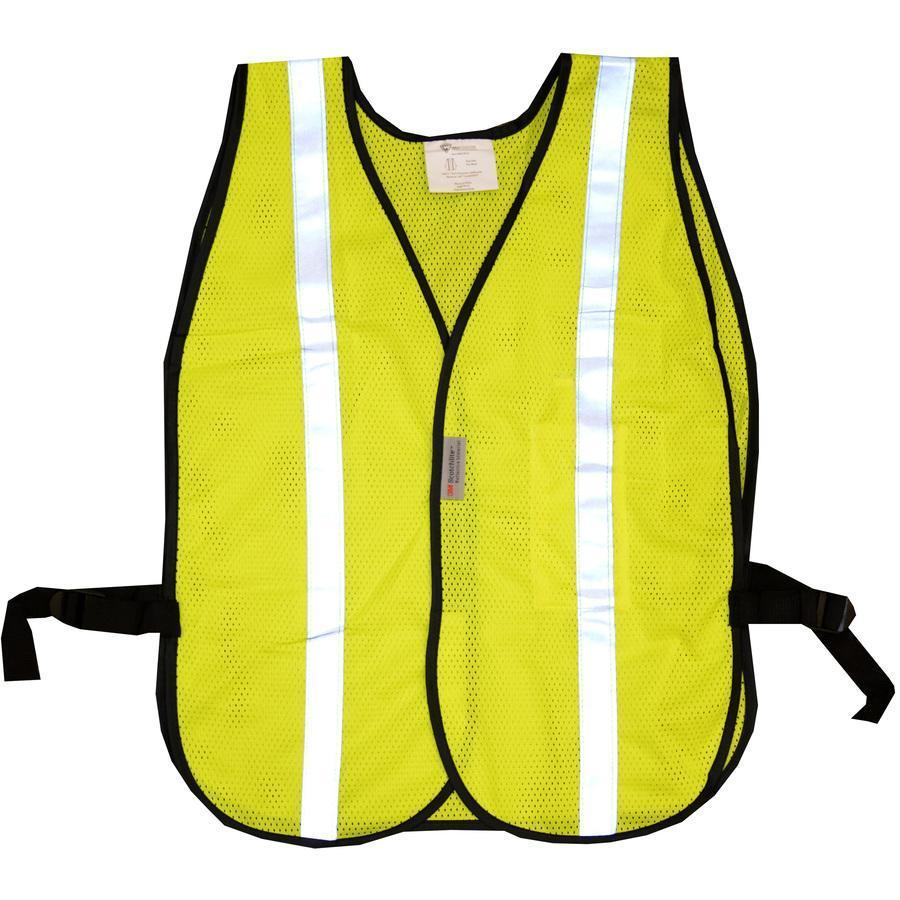vest: (160, 50, 760, 849)
